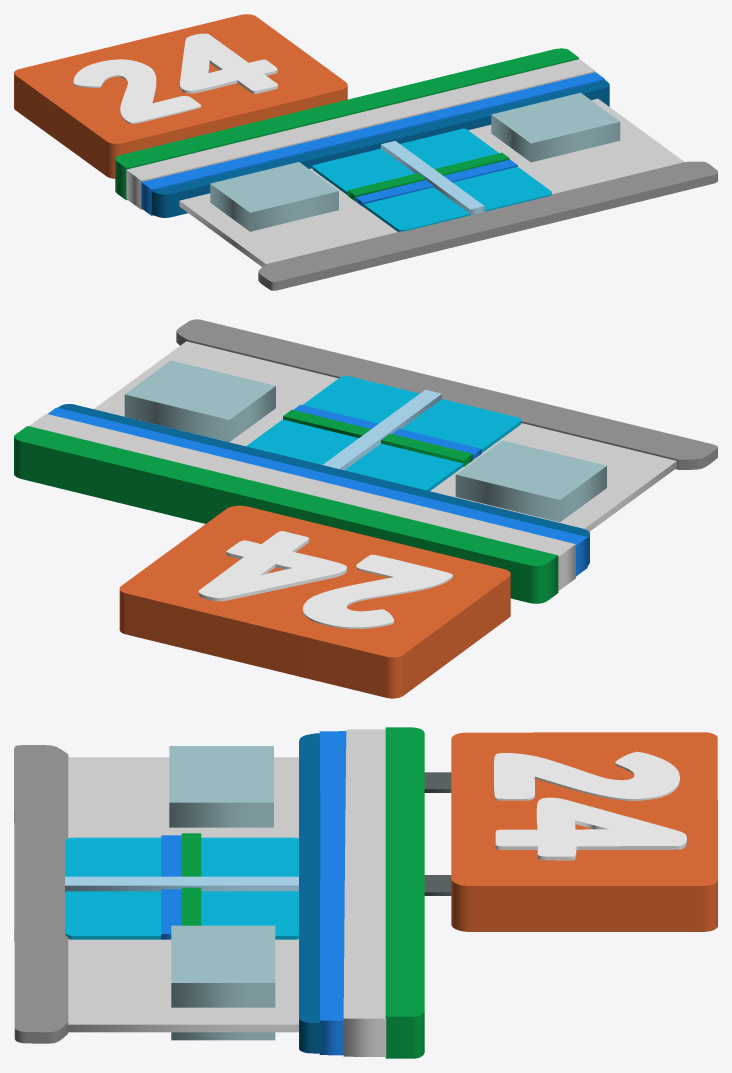
Rendered from emoji_u1f3ea.glb.
3 renders of one model, top to bottom at view 1: azimuth 30°, elevation 25°; view 2: azimuth 150°, elevation 25°; view 3: azimuth 270°, elevation 25°, orthographic. The views are drawn at different scales.
Visible parts, largest first — view 1: emoji_u1f3ea; view 2: emoji_u1f3ea; view 3: emoji_u1f3ea.
Boxes of the visible parts, x1,y1,x2,y2 form: emoji_u1f3ea: (14,14,717,290); emoji_u1f3ea: (14,319,717,698); emoji_u1f3ea: (14,727,717,1058).
Size of the model in its own units: 0.0325 by 0.003 by 0.0334.
